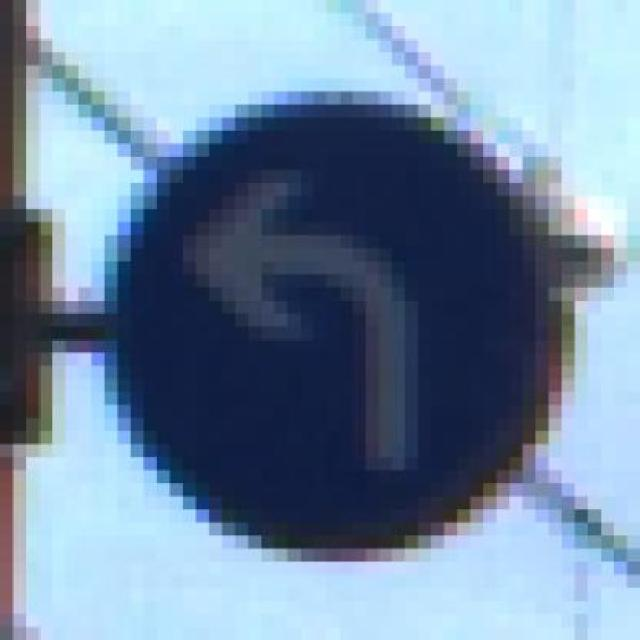Turn left ahead: (105, 52, 588, 576)
